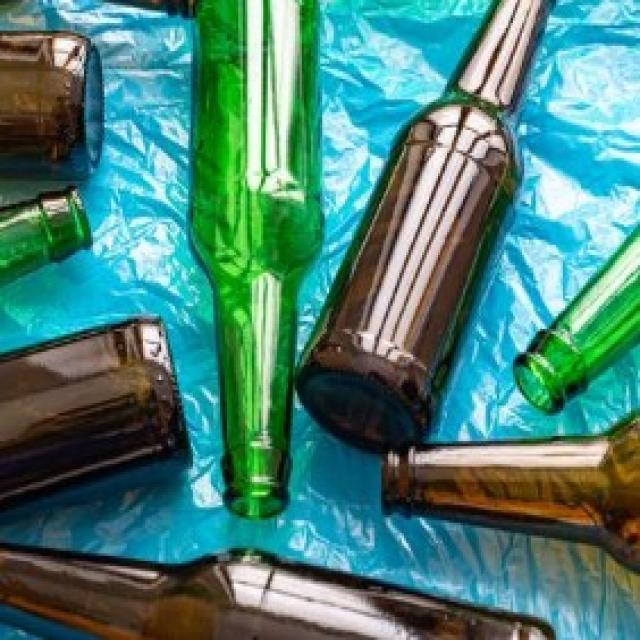electronic: (285, 0, 567, 456), (182, 0, 322, 528), (2, 527, 561, 640), (376, 436, 640, 584), (0, 317, 189, 514), (514, 202, 640, 407)
